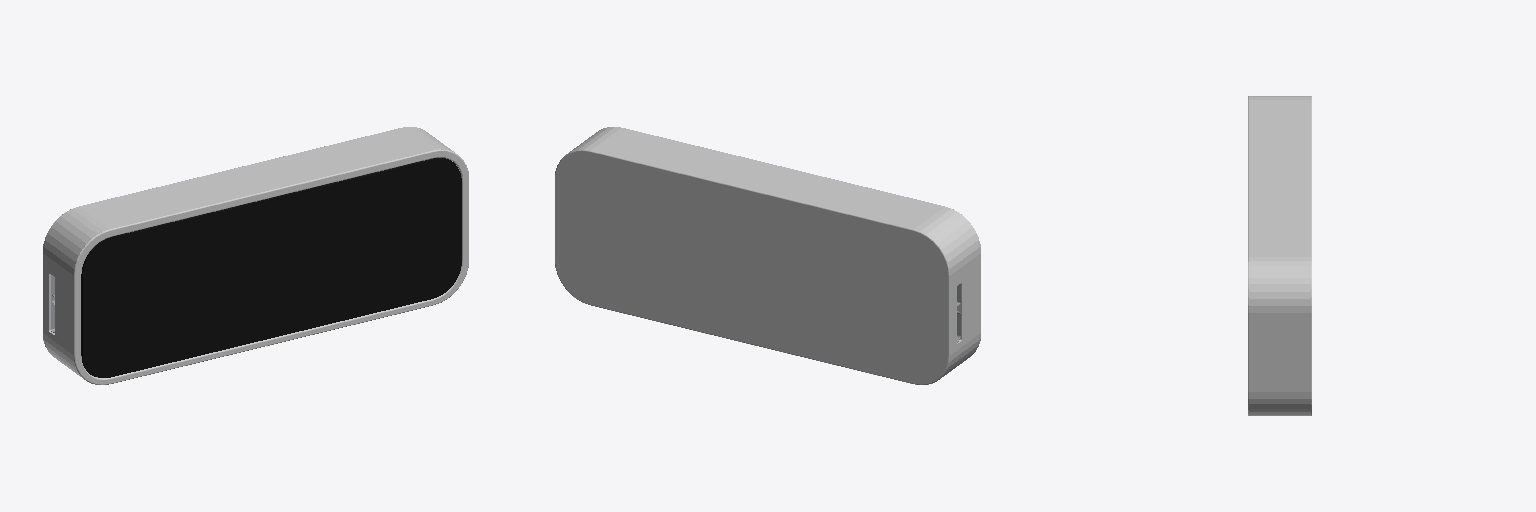
File: leap_motion.obj
3 renders of one model, left to right at view 1: azimuth 30°, elevation 25°; view 2: azimuth 150°, elevation 25°; view 3: azimuth 270°, elevation 25°, orthographic.
Parts seen in each view (by area): view 1: unnamed2, unnamed1; view 2: unnamed1; view 3: unnamed1.
Part boxes in pixels (bbox=[...]): unnamed2: bbox=[81, 158, 461, 377]; unnamed1: bbox=[43, 127, 468, 384]; unnamed1: bbox=[555, 127, 980, 384]; unnamed1: bbox=[1248, 96, 1311, 415].
Size of the model in its own units: 80.14 by 30.01 by 11.37.